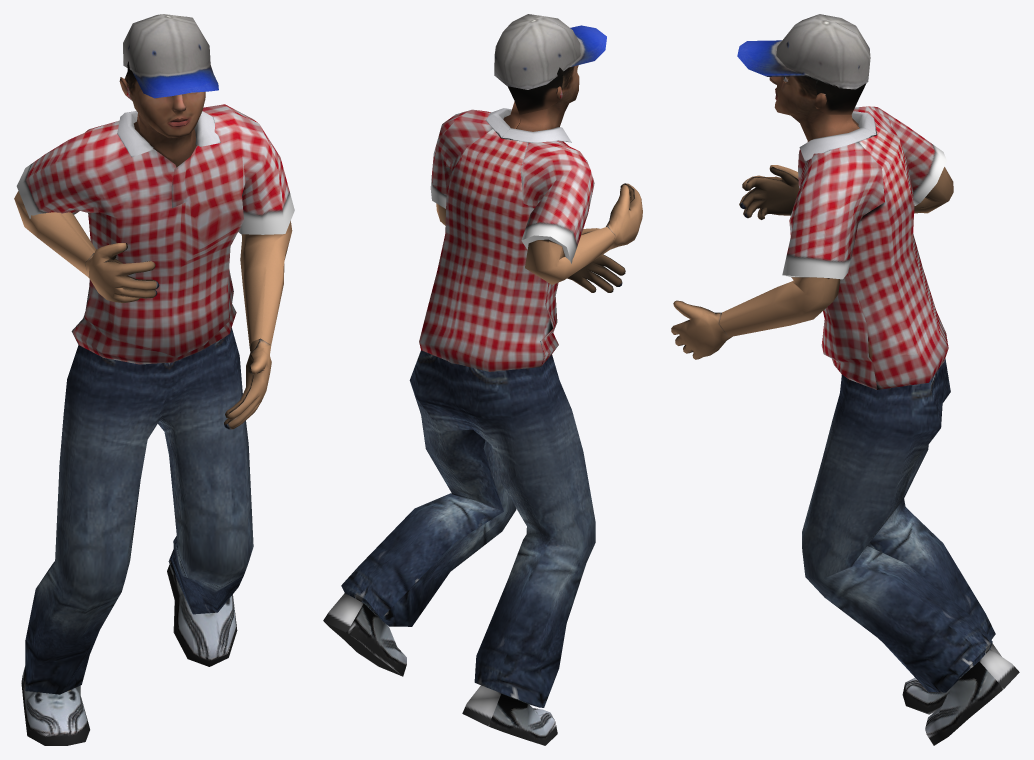
File: fiel.fbx
3 views of the same model, side by side, from view 1: azimuth 30°, elevation 25°; view 2: azimuth 150°, elevation 25°; view 3: azimuth 270°, elevation 25° (orthographic). The views are drawn at different scales.
Parts seen in each view (by area): view 1: bowler, bowler cap; view 2: bowler, bowler cap; view 3: bowler, bowler cap.
Boxes of the visible parts, box(x1,y1,x2,y2) form: bowler: box(14, 61, 294, 745); bowler cap: box(123, 14, 218, 98); bowler: box(323, 65, 642, 745); bowler cap: box(494, 14, 606, 89); bowler: box(671, 76, 1019, 745); bowler cap: box(737, 14, 870, 89).
Size of the model in its own units: 59.3 by 178 by 79.8.
